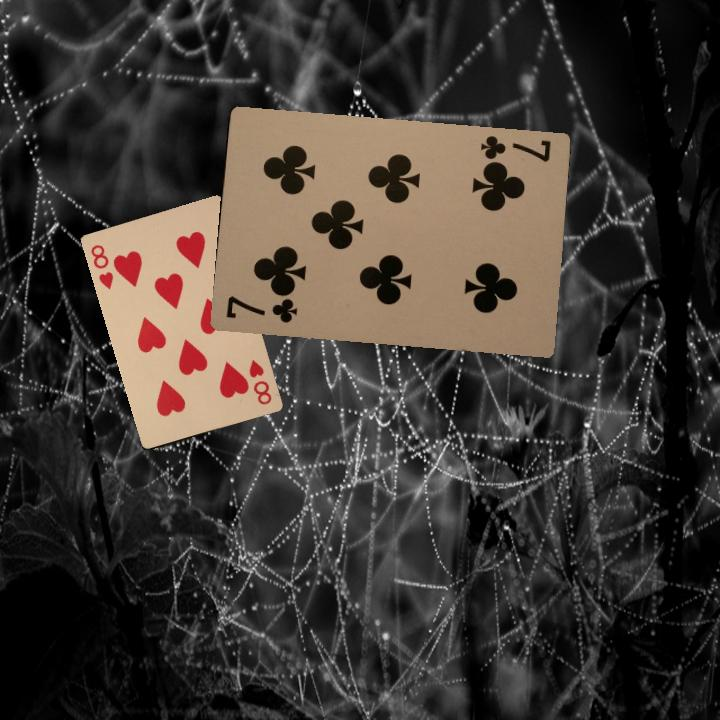7c: (476, 131, 553, 171), (222, 291, 300, 325)
8h: (245, 355, 274, 407), (87, 240, 116, 291)
